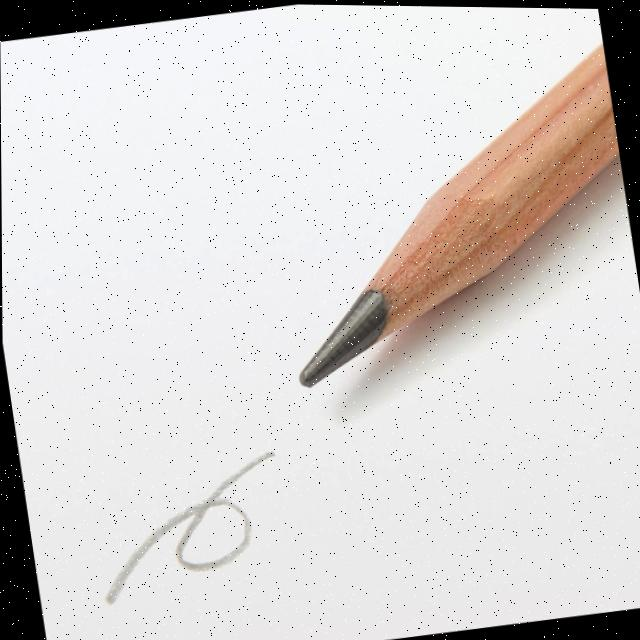pencil: (274, 32, 620, 400)
